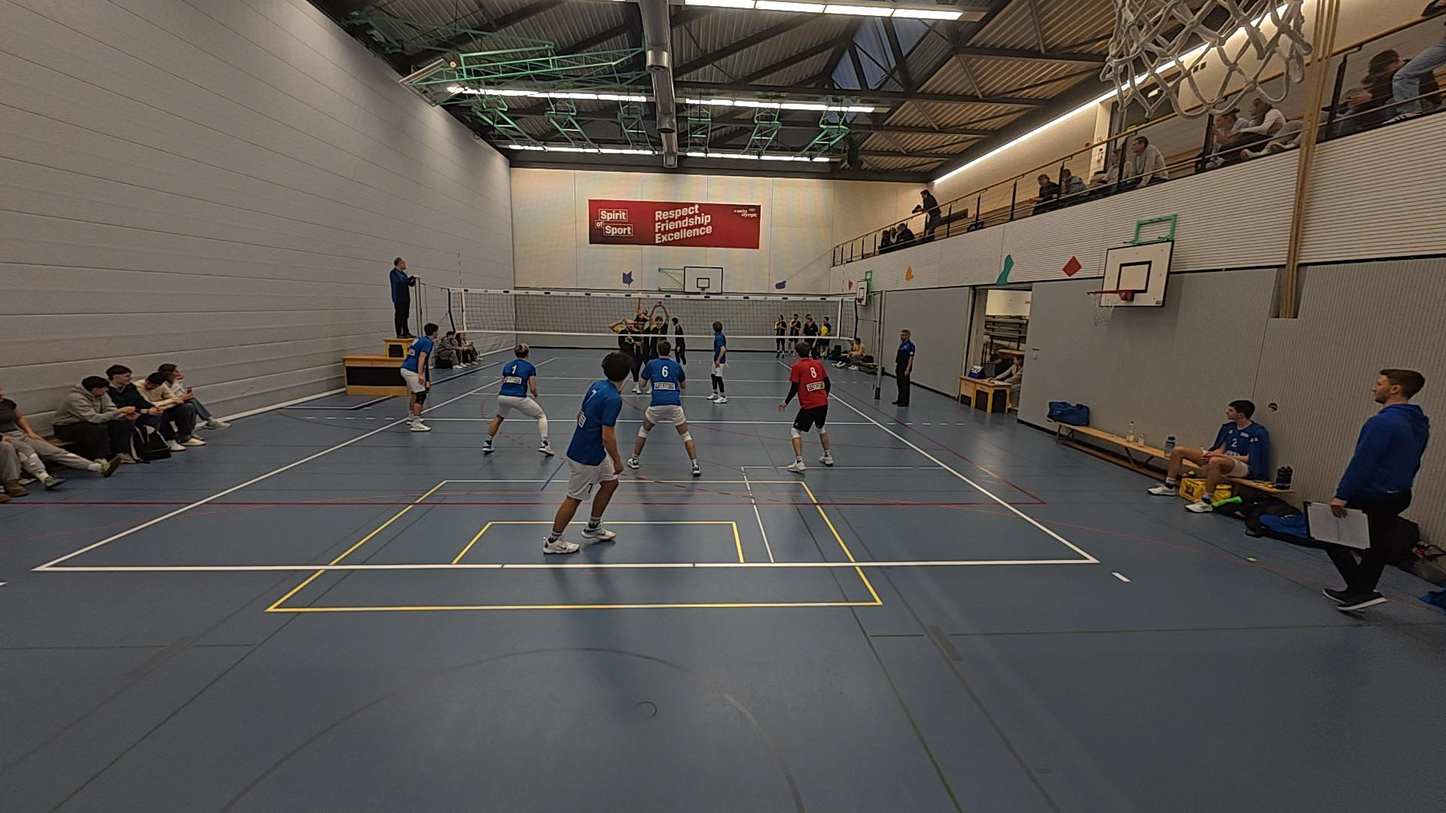battuta: (634, 289, 649, 323), (636, 291, 643, 300)
